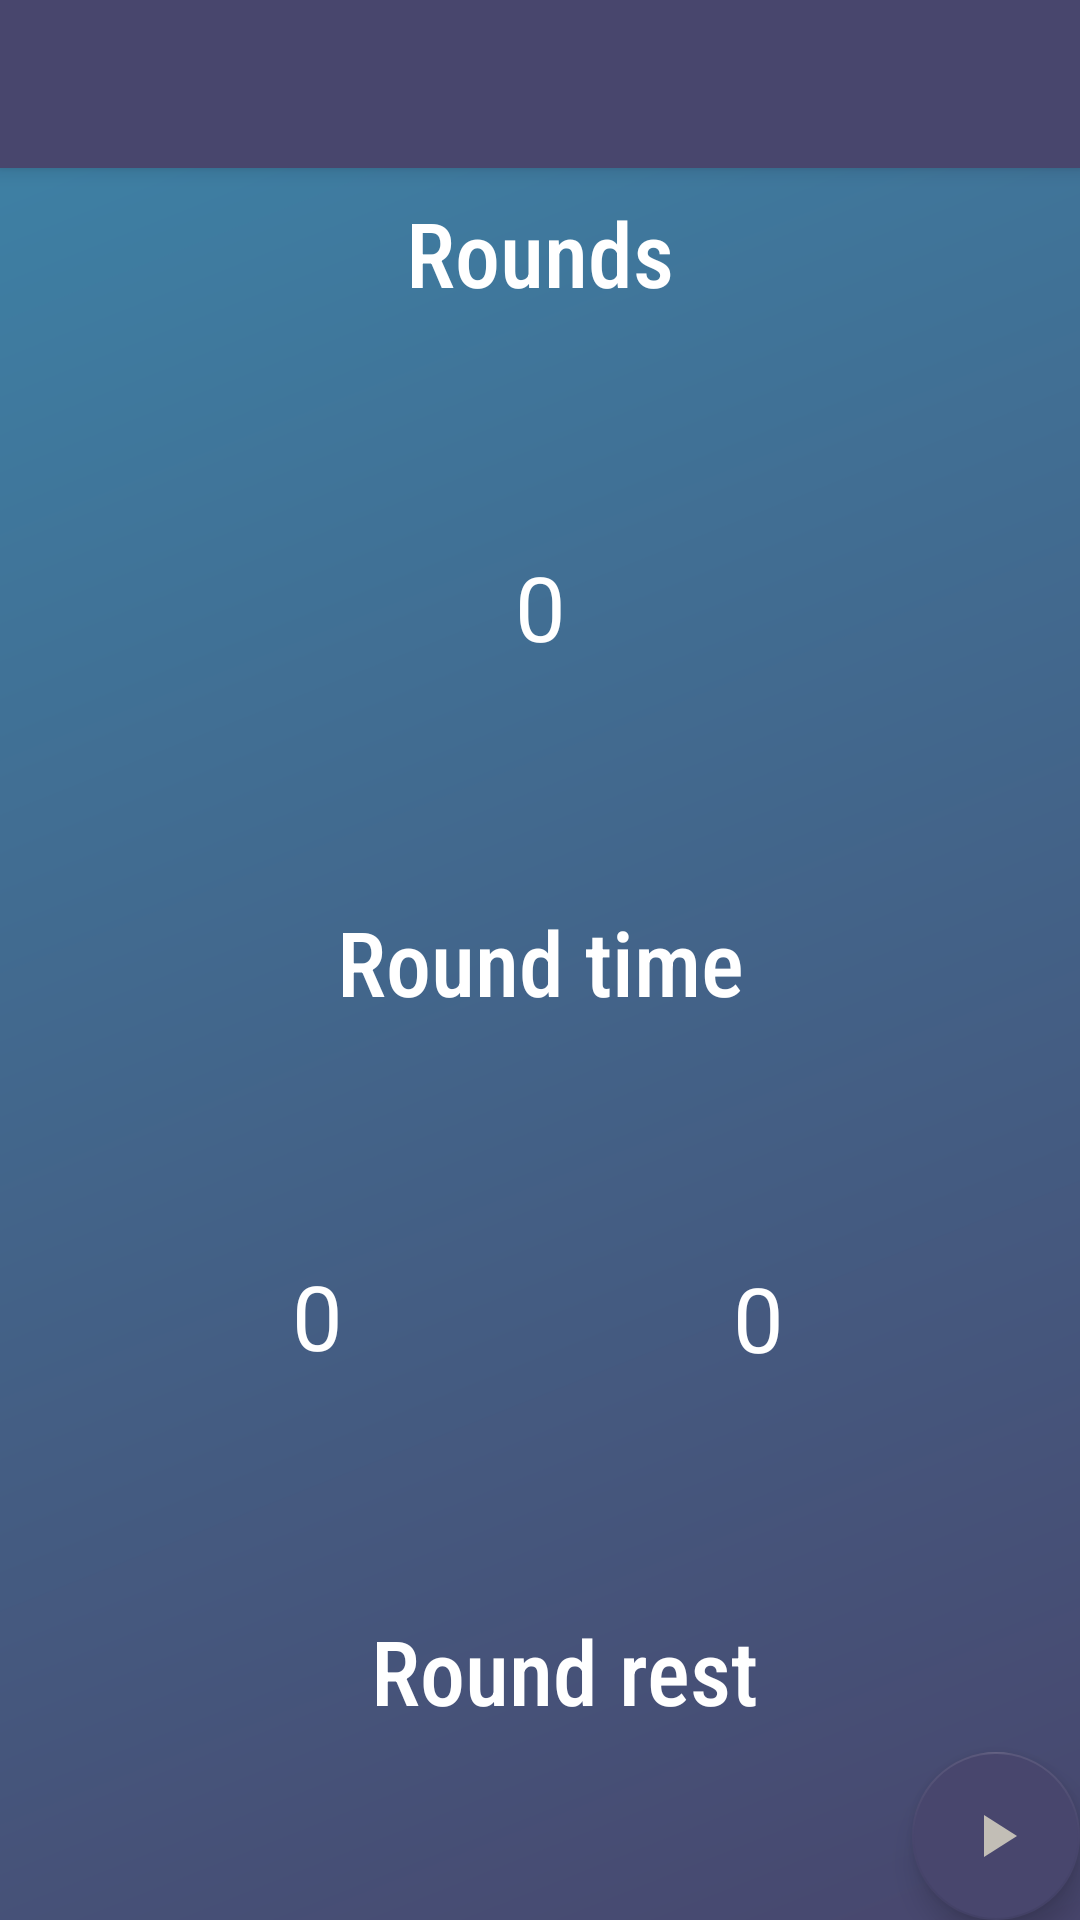

Screen size 1080 x 1920. Icon name, then its box in pixels as (x1, y1, x2, y2):
play arrow bright: (976, 1752, 1052, 1920)
